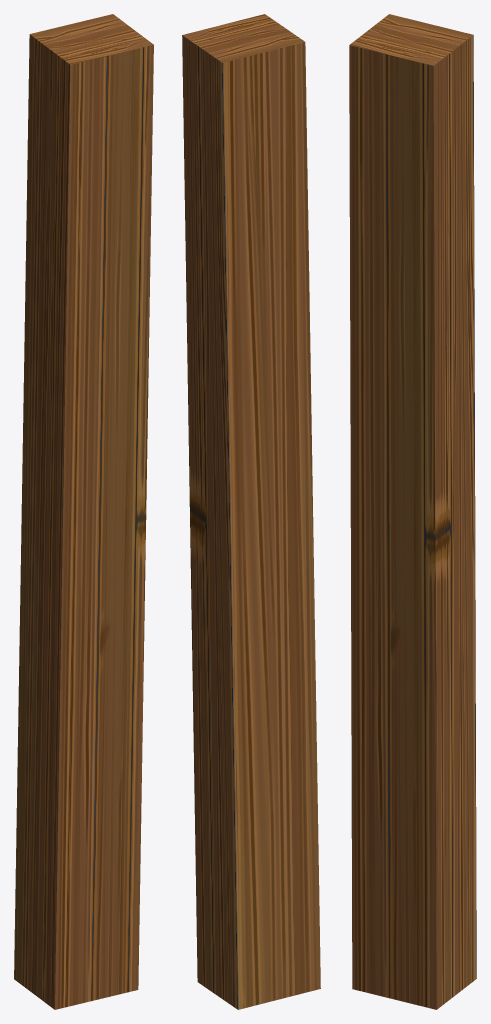
3 renders of one model, left to right at view 1: azimuth 30°, elevation 25°; view 2: azimuth 210°, elevation 25°; view 3: azimuth 330°, elevation 25°, orthographic.
Visible parts, largest first — view 1: Cube.767; view 2: Cube.767; view 3: Cube.767.
Part boxes in pixels (x1,y1,x2,y2): Cube.767: (14,14,153,1009); Cube.767: (182,14,320,1009); Cube.767: (349,14,476,1009).
Size of the model in its own units: 59.29 by 596 by 56.73.
1 material, 1 textured.
